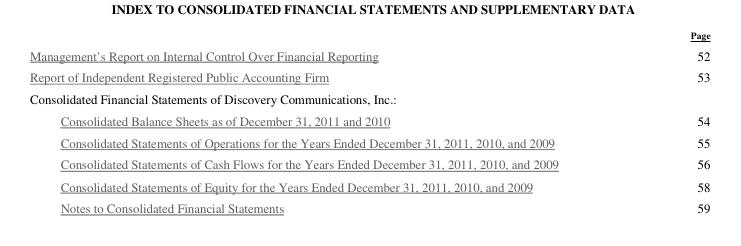table: (29, 29, 709, 215)
table column: (29, 29, 623, 215), (623, 29, 709, 215)
table column header: (29, 29, 709, 44)
table projected row header: (29, 87, 709, 109)
table row: (29, 44, 709, 66), (29, 87, 709, 109), (29, 109, 709, 131), (29, 131, 709, 153), (29, 153, 709, 175), (29, 175, 709, 197), (29, 66, 709, 87), (29, 197, 709, 215), (29, 29, 709, 44)
